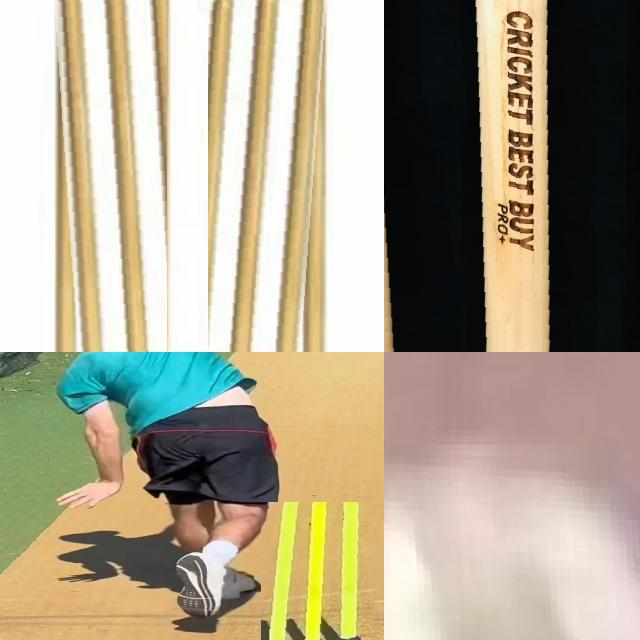Cricket ball: (384, 446, 640, 640)
Stumps: (384, 0, 640, 352), (207, 0, 328, 352), (51, 0, 166, 352), (261, 501, 383, 640)
